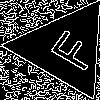F: (40, 23, 100, 74)
